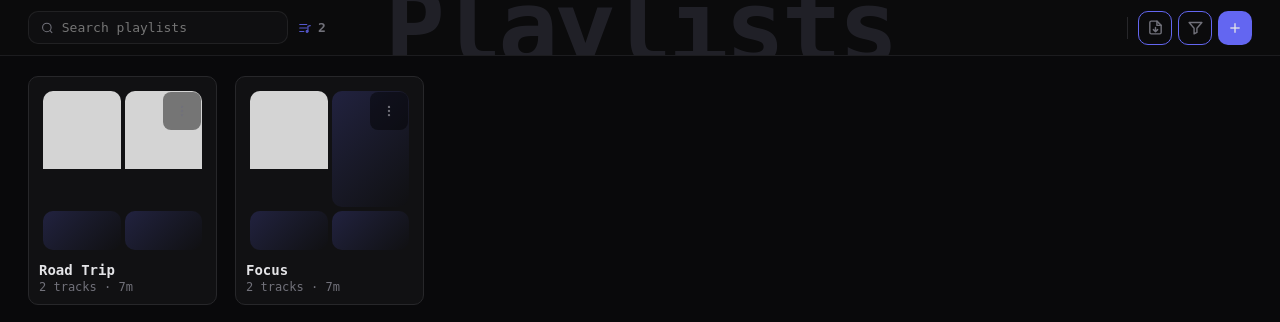
Test case: PlaylistsView integration flows › shares grid card artwork with the opened playlist header without extra track fetches
This screenshot has width=1280, height=322.
Expected: the text "Road Trip" is shown, [39,262,115,278]
Click the button "Road Trip 2 tracks · 7m". click: (122, 190)
box: [28,76,217,305]
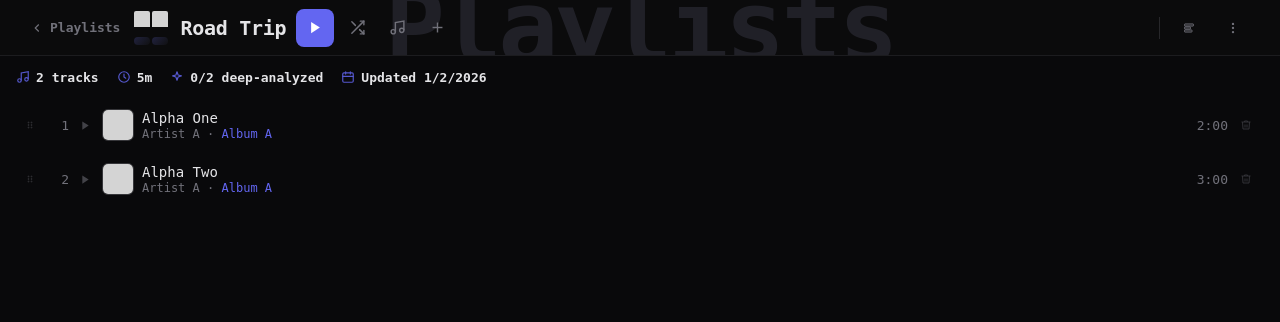
Expected: the text "Alpha One" is shown, [142,110,218,126]
